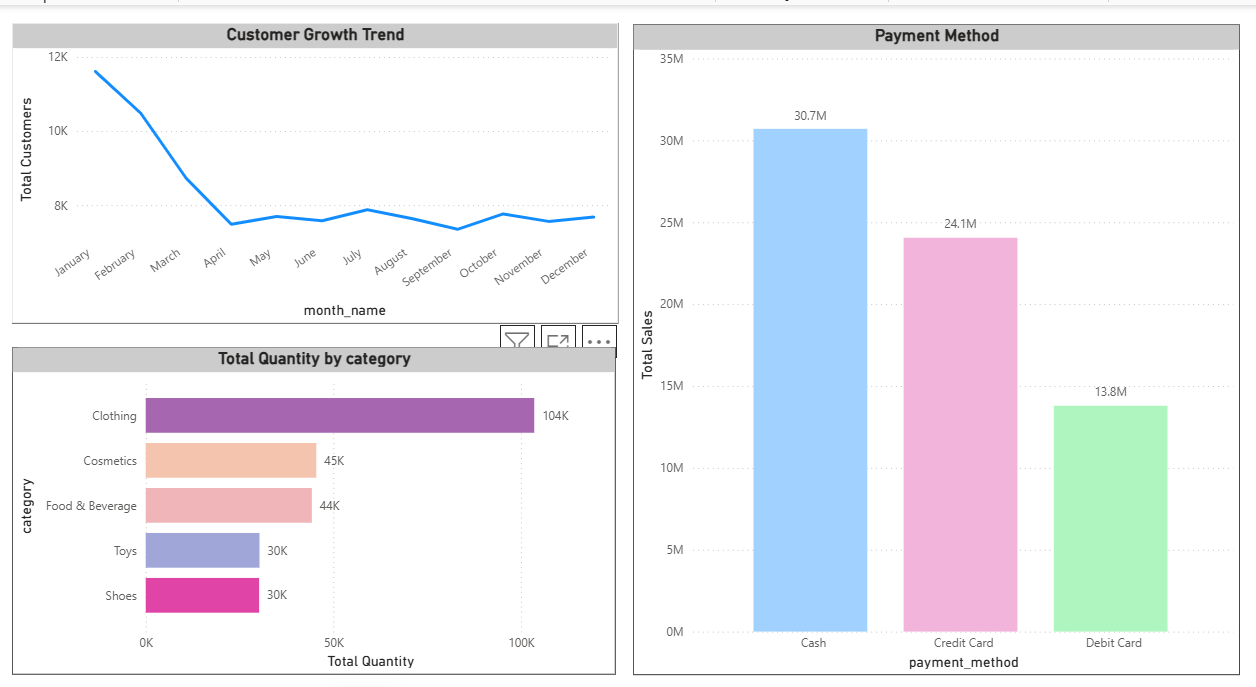

The dashboard page shown, as its layout file describes it:
{"tool":"powerbi","page":{"name":"Page 2","canvas":[1280,720],"ordinal":1},"visuals":[{"type":"lineChart","title":"Customer Growth Trend","fields":{"Y":["customers_shopping_data_cleaned.Total Customers"],"Category":["customers_shopping_data_cleaned.month_name"]},"box":[11.7,18.3,611.7,303.3],"z":0},{"type":"columnChart","title":"Payment Method","fields":{"Category":["customers_shopping_data_cleaned.payment_method"],"Y":["customers_shopping_data_cleaned.Total Sales"]},"box":[639.5,18.9,612.6,656.9],"z":1000},{"type":"barChart","fields":{"Category":["customers_shopping_data_cleaned.category"],"Y":["customers_shopping_data_cleaned.Total Quantity"]},"box":[12,344.6,609.5,330.6],"z":4000}]}

Visuals, with their boxes in screenshot pixels (x1, y1, x2, y2), scaled from the page's 1280x720 canvas onto the 1256x687 screenshot:
"Customer Growth Trend" lineChart: detection(11, 17, 612, 307)
"Payment Method" columnChart: detection(628, 18, 1229, 645)
barChart - customers_shopping_data_cleaned.category x customers_shopping_data_cleaned.Total Quantity: detection(12, 329, 610, 644)
